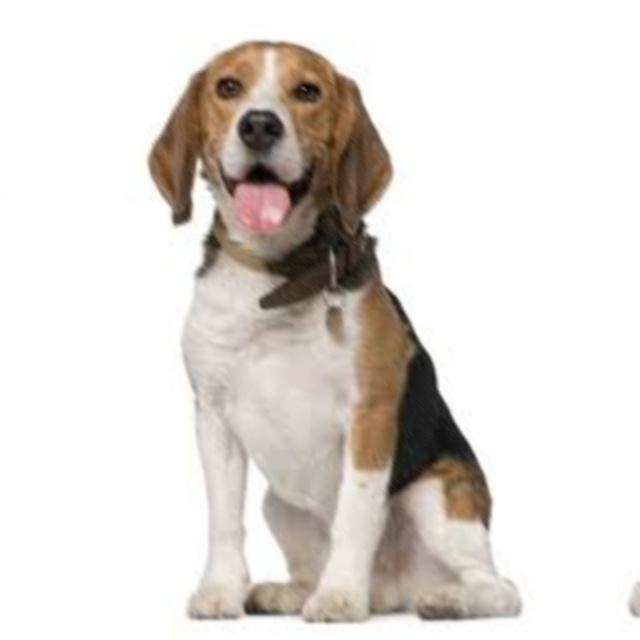dog: (112, 14, 520, 640), (0, 14, 18, 640), (634, 14, 640, 640)
